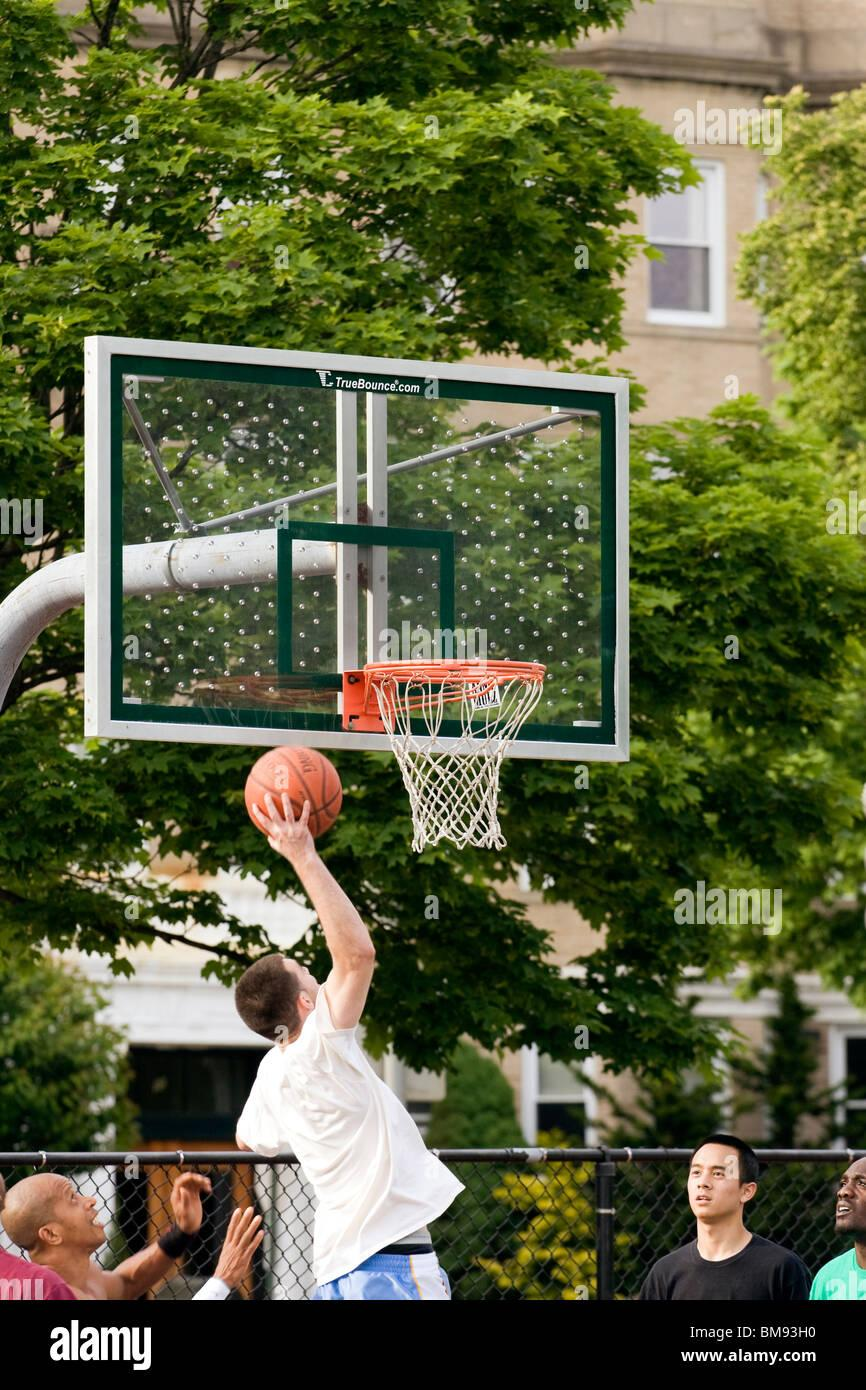basketball: (232, 738, 348, 844)
